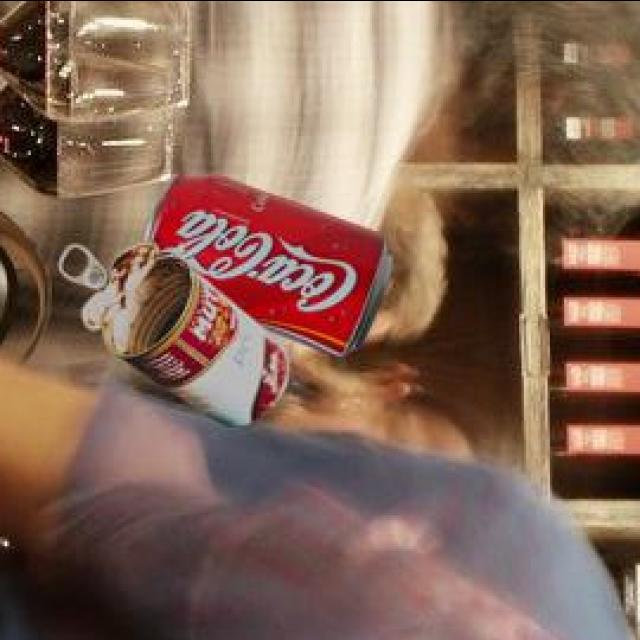logam: (148, 169, 397, 352), (68, 238, 293, 423)
